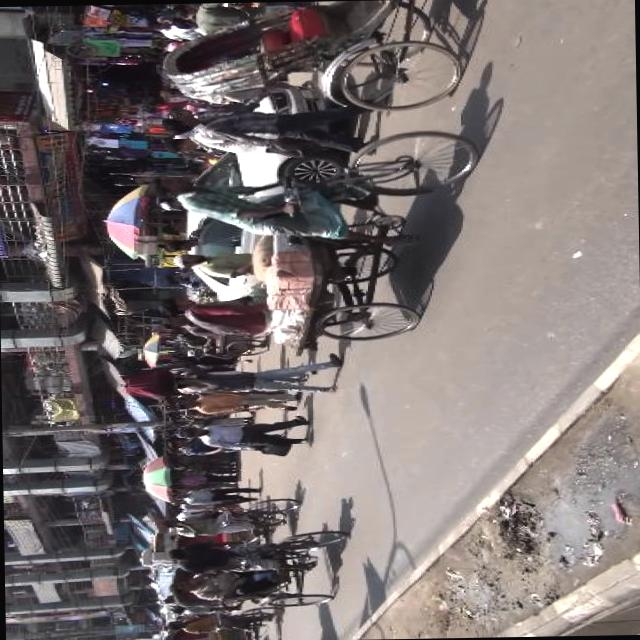motorcycle: (164, 528, 350, 612), (165, 495, 310, 547), (158, 603, 287, 640)
